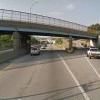Bridge: (1, 2, 100, 47)
